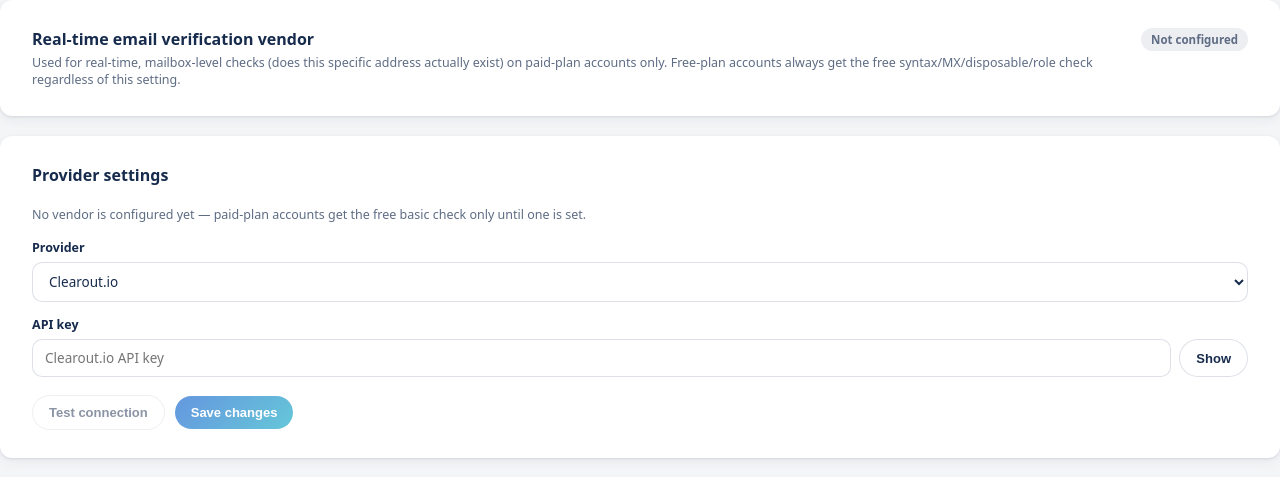
Test: EmailValidationConfigPage › tests a connection without saving anything
Expected: the text "Not configured" is shown, [1141,28,1248,51]
Type "co-fake-key" into the password field labelled "API key" at x=602, y=358, box [32,339,1171,377]
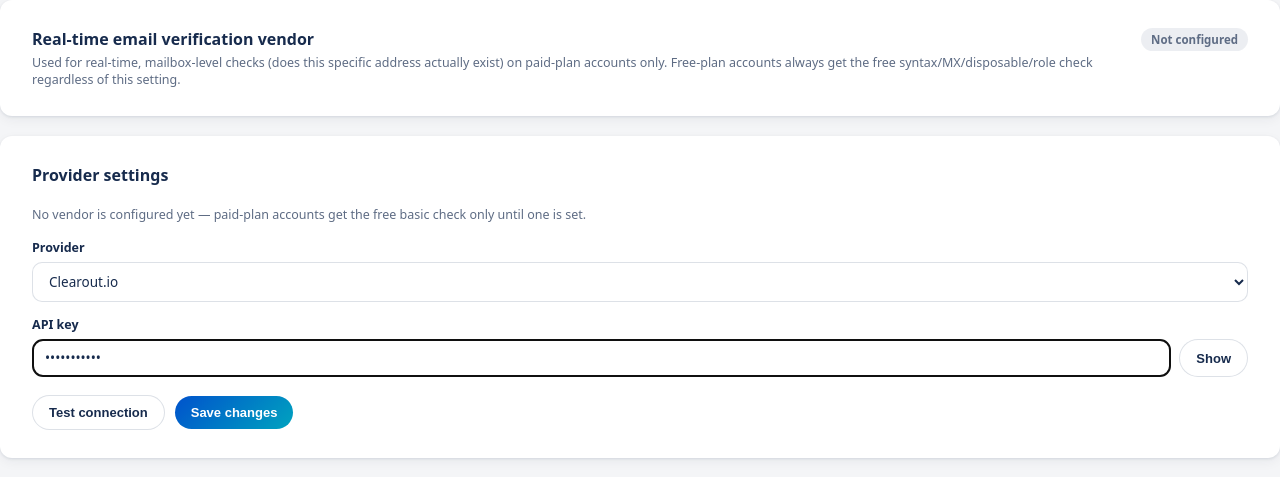
Click the button "Test connection" at x=98, y=412, box [32,395,165,430]
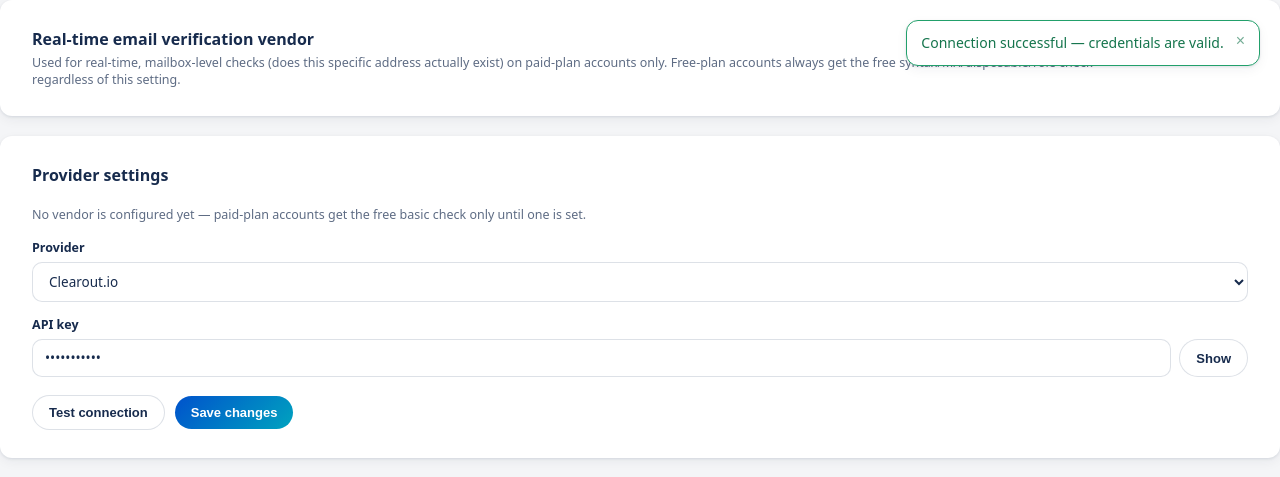
Result: the text "Connection successful — credentials are valid." is shown at [921,33,1224,53]
